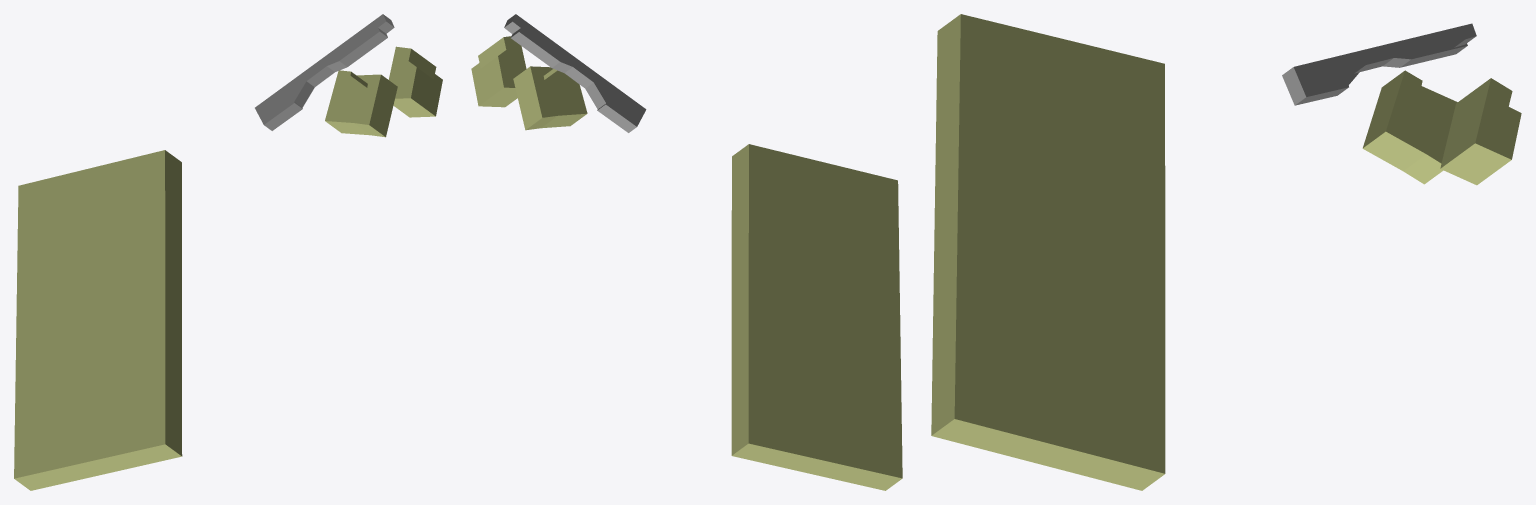
3 renders of one model, left to right at view 1: azimuth 30°, elevation 25°; view 2: azimuth 150°, elevation 25°; view 3: azimuth 330°, elevation 25°, orthographic. The views are drawn at different scales.
Visible parts, largest first — view 1: 0_1_0_0_2_1_0_1; view 2: 0_1_0_0_2_1_0_1; view 3: 0_1_0_0_2_1_0_1.
Boxes of the visible parts, box(x1,y1,x2,y2) form: 0_1_0_0_2_1_0_1: box(14, 14, 442, 490); 0_1_0_0_2_1_0_1: box(471, 14, 902, 490); 0_1_0_0_2_1_0_1: box(931, 14, 1521, 490).
Bounding box in the file's own units: 83.9 × 74.31 × 9.
